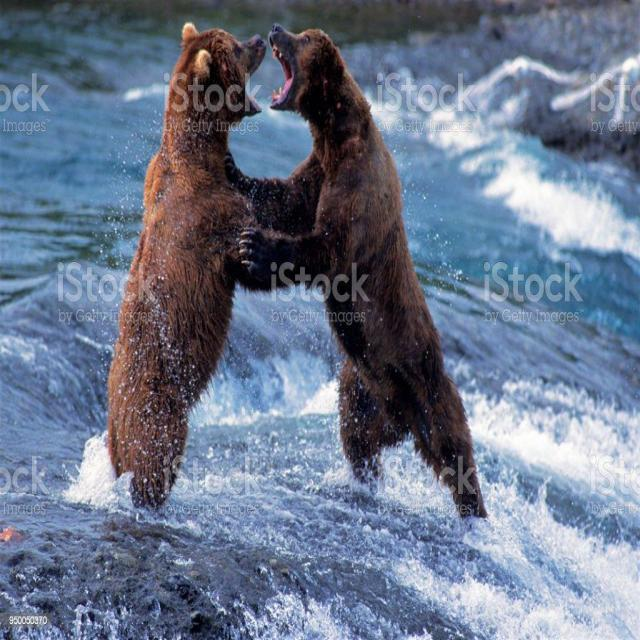Bear: (239, 28, 486, 519), (104, 24, 262, 511)
